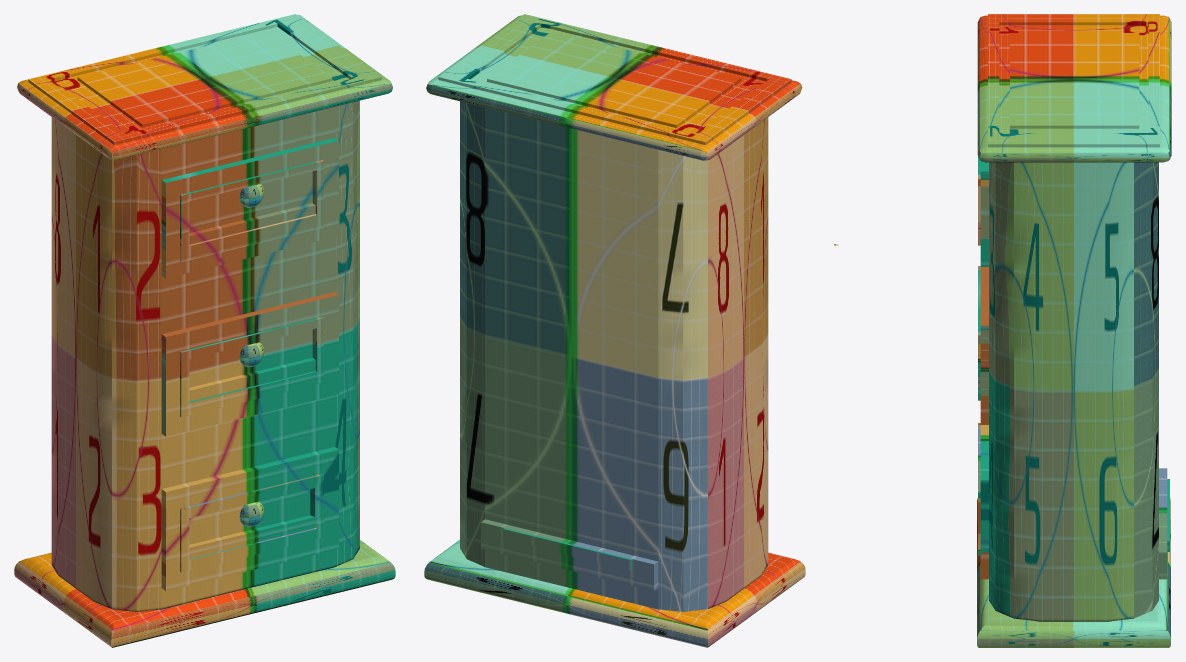
3 renders of one model, left to right at view 1: azimuth 30°, elevation 25°; view 2: azimuth 150°, elevation 25°; view 3: azimuth 270°, elevation 25°, orthographic.
Visible parts, largest first — view 1: Object_2; view 2: Object_2; view 3: Object_2.
Boxes of the visible parts, left/top/right/bottom form: Object_2: left=14, top=14, right=395, bottom=647; Object_2: left=424, top=14, right=805, bottom=647; Object_2: left=834, top=14, right=1171, bottom=647.
Bounding box in the file's own units: 10.16 × 17.09 × 10.43.
Materials: 1 (1 with a texture image).
